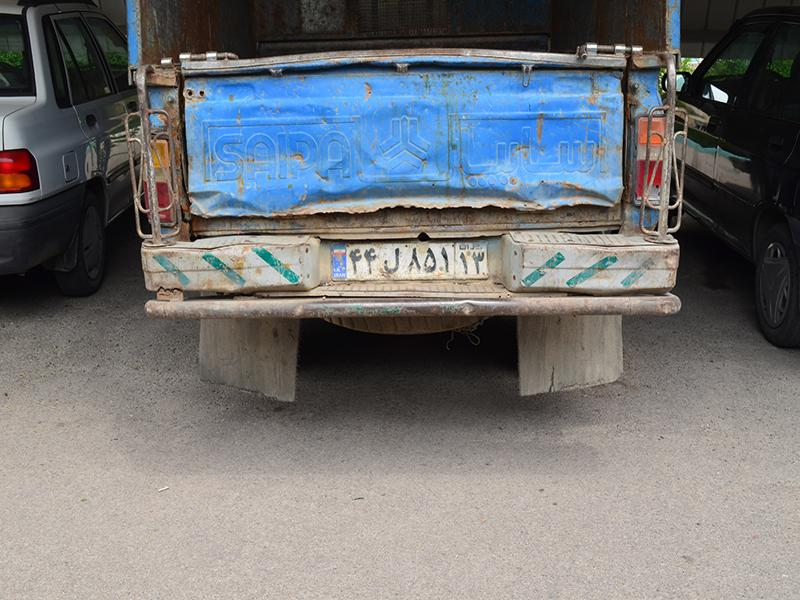Plate: (324, 233, 504, 291)
